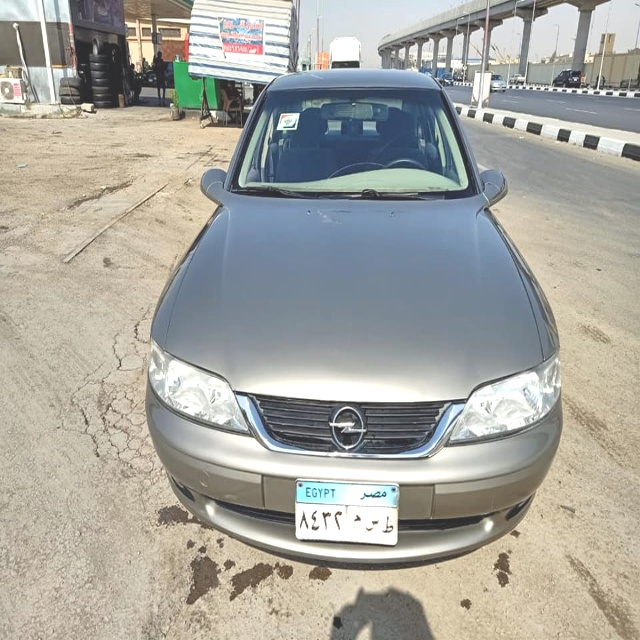License Plate: (294, 478, 402, 545)
